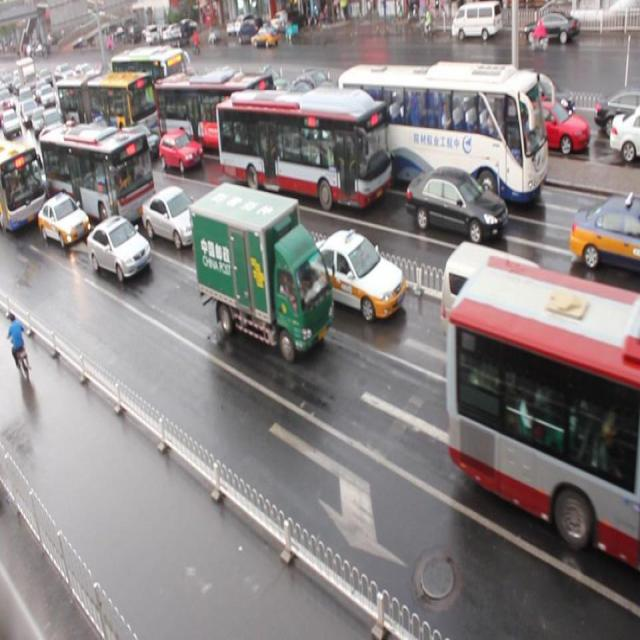BigCar: (450, 248, 640, 582), (338, 60, 557, 202), (187, 183, 333, 366), (214, 88, 394, 213), (37, 120, 153, 230), (57, 75, 160, 132)
car: (312, 219, 414, 344), (432, 228, 538, 331), (401, 159, 503, 245), (568, 184, 640, 273), (88, 216, 149, 286), (140, 187, 202, 252), (0, 144, 46, 228), (34, 191, 87, 249), (157, 132, 200, 178), (252, 25, 281, 53), (235, 16, 261, 44), (38, 84, 58, 110), (2, 111, 22, 137)
